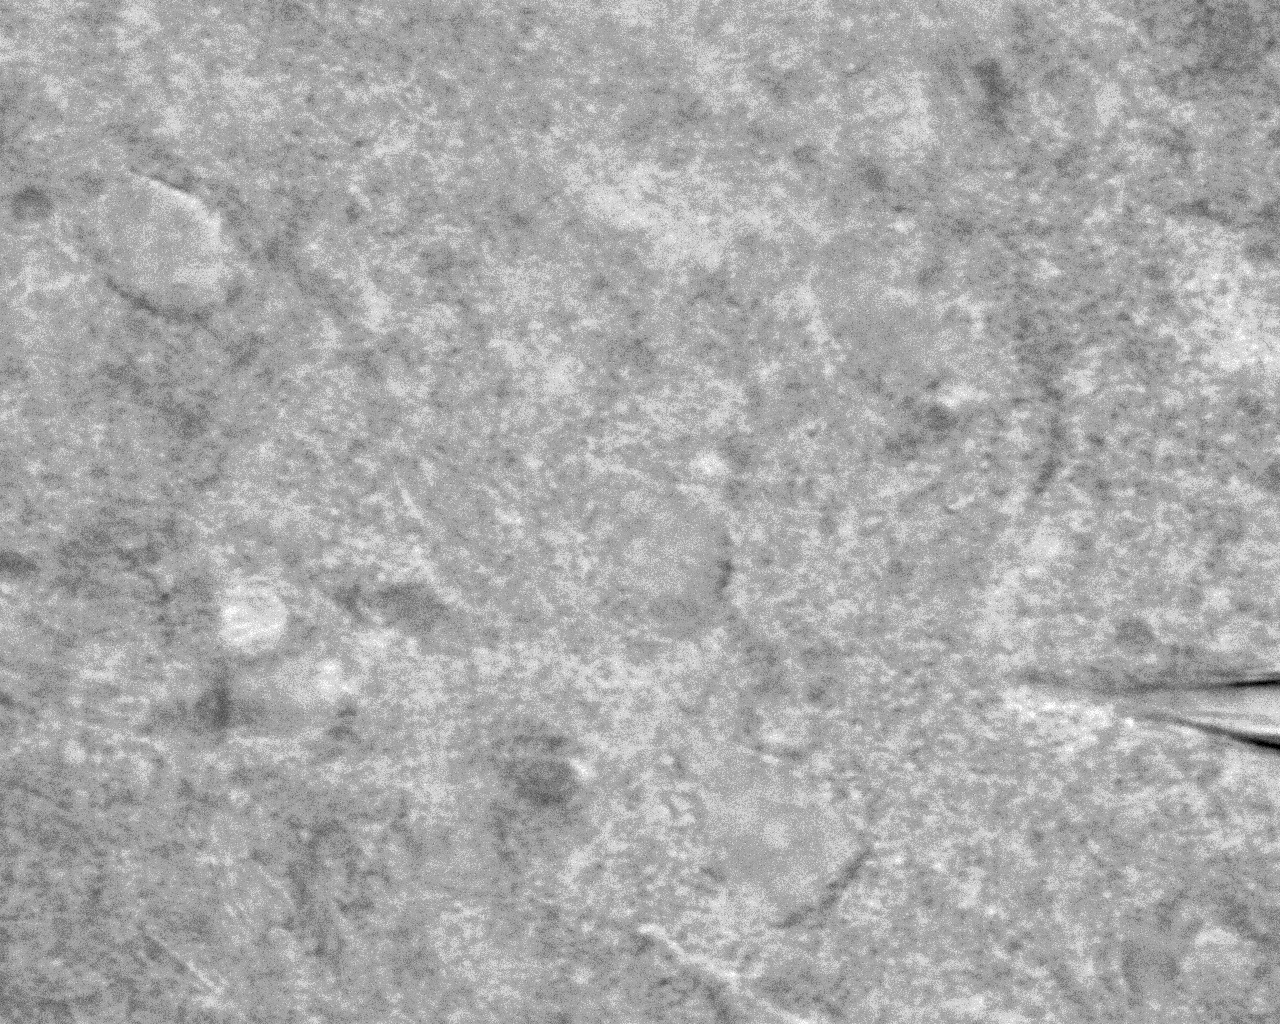neuron: (665, 723, 887, 932), (62, 153, 250, 332)
